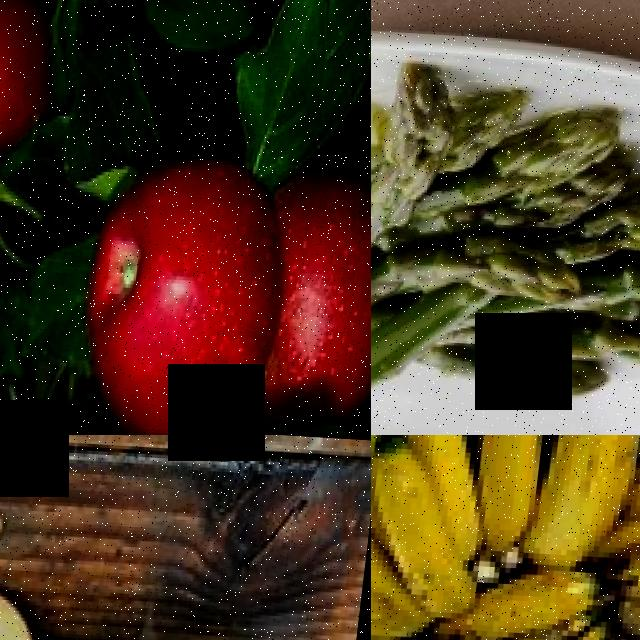apple: (82, 150, 299, 435), (272, 159, 371, 426), (0, 0, 65, 162), (0, 597, 51, 640)
asparagus: (371, 65, 444, 266), (424, 232, 585, 307), (492, 114, 613, 198), (532, 305, 640, 374), (568, 195, 640, 259), (585, 261, 640, 310)
banana: (371, 456, 488, 613), (383, 435, 506, 551), (545, 435, 640, 578), (371, 475, 446, 640), (470, 435, 560, 552)
